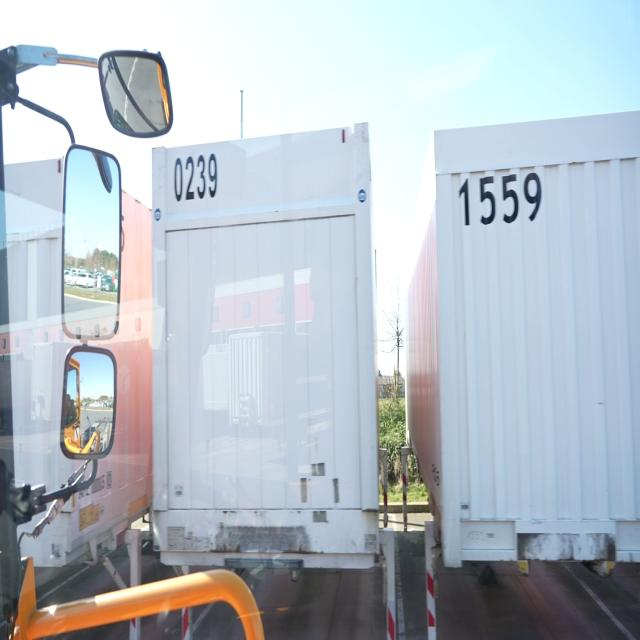Code: (458, 166, 542, 231), (168, 150, 223, 203)
